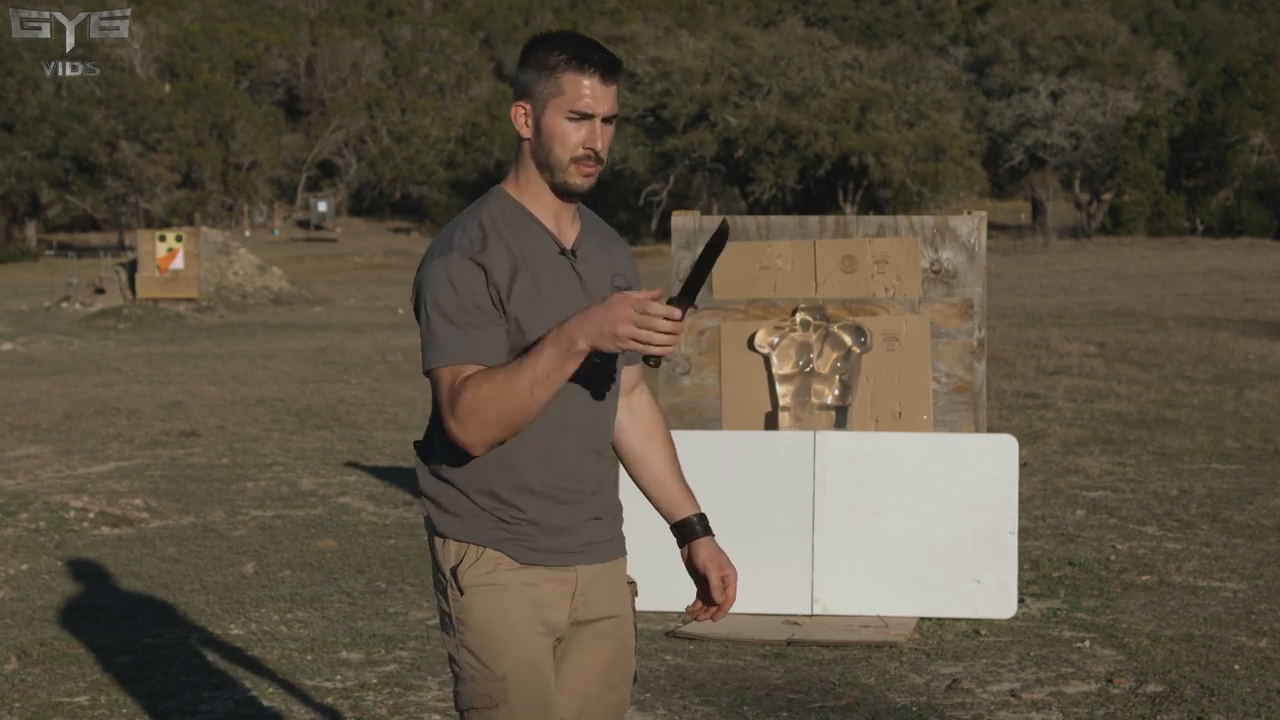knife: (623, 207, 744, 370)
